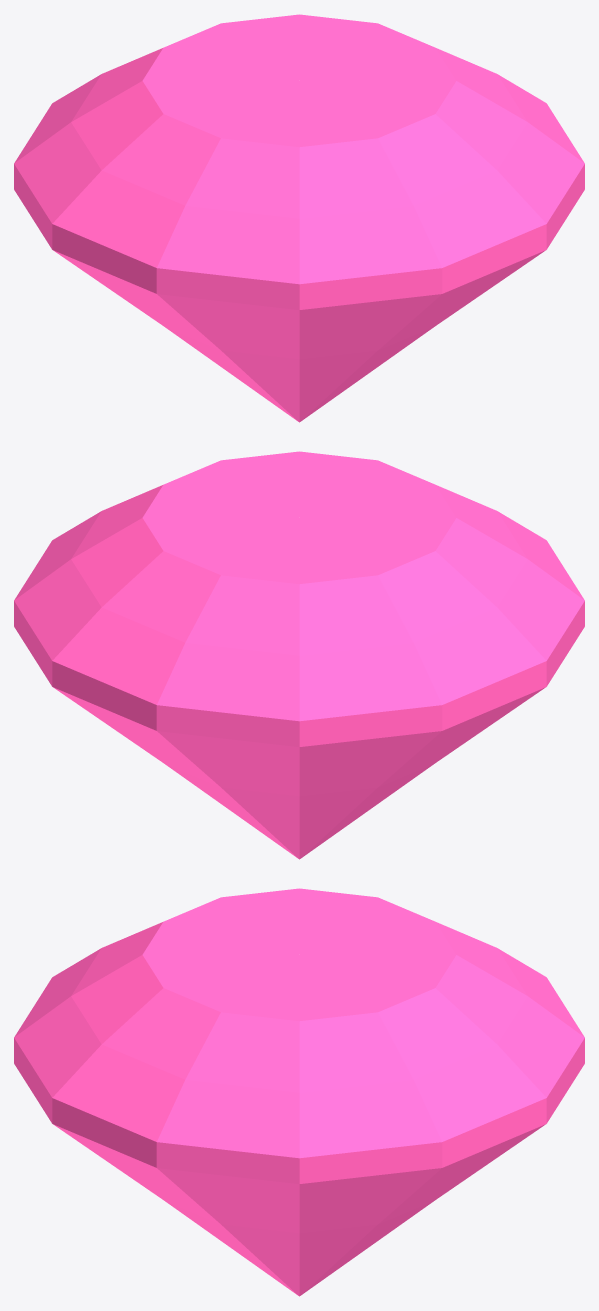
Rendered from rhodolite-jewel.glb.
3 views of the same model, one above another, from view 1: azimuth 30°, elevation 25°; view 2: azimuth 150°, elevation 25°; view 3: azimuth 270°, elevation 25° (orthographic).
Parts seen in each view (by area): view 1: Rhodolite; view 2: Rhodolite; view 3: Rhodolite.
Boxes of the visible parts, x1=… form: Rhodolite: x1=14, y1=14, x2=584, y2=422; Rhodolite: x1=14, y1=451, x2=584, y2=859; Rhodolite: x1=14, y1=888, x2=584, y2=1296.
Bounding box in the file's own units: 2 × 1.32 × 2.
